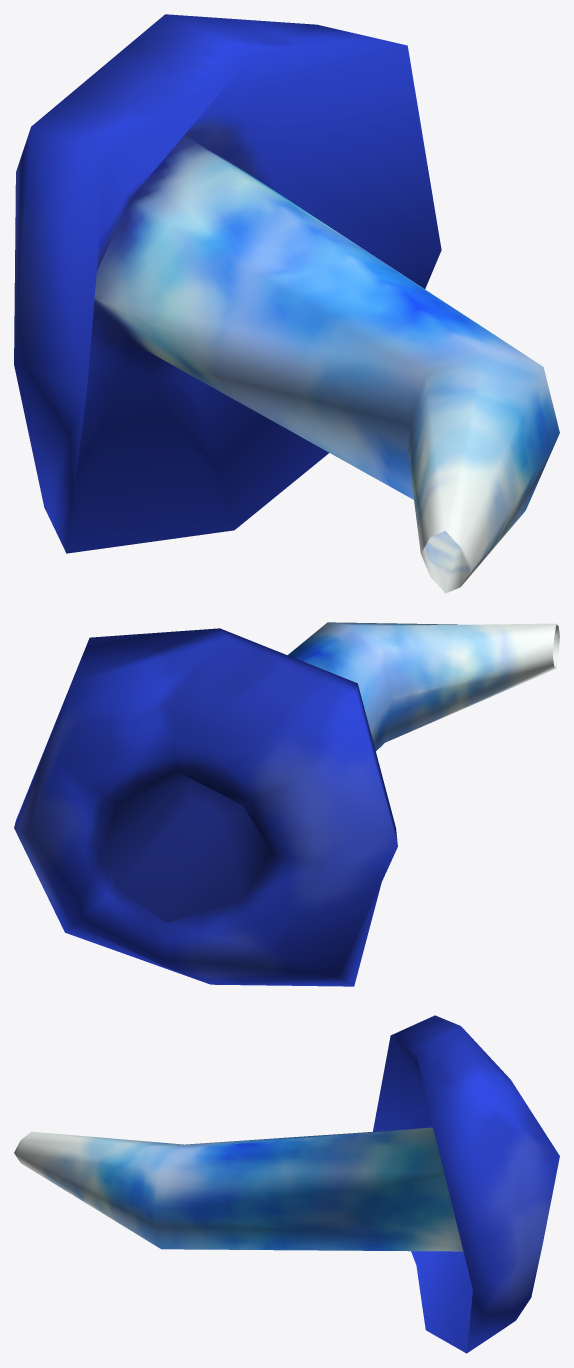
File: Tree Mushroom 2 - LOD 1.fbx
3 views of the same model, one above another, from view 1: azimuth 30°, elevation 25°; view 2: azimuth 150°, elevation 25°; view 3: azimuth 270°, elevation 25° (orthographic). The views are drawn at different scales.
Visible parts, largest first — view 1: Tree mushroom 2 - LOD 1; view 2: Tree mushroom 2 - LOD 1; view 3: Tree mushroom 2 - LOD 1.
Part boxes in pixels (bbox=[...]): Tree mushroom 2 - LOD 1: bbox=[14, 14, 559, 593]; Tree mushroom 2 - LOD 1: bbox=[14, 622, 559, 986]; Tree mushroom 2 - LOD 1: bbox=[14, 1015, 559, 1353].
Size of the model in its own units: 0.1753 by 0.1754 by 0.2962.
